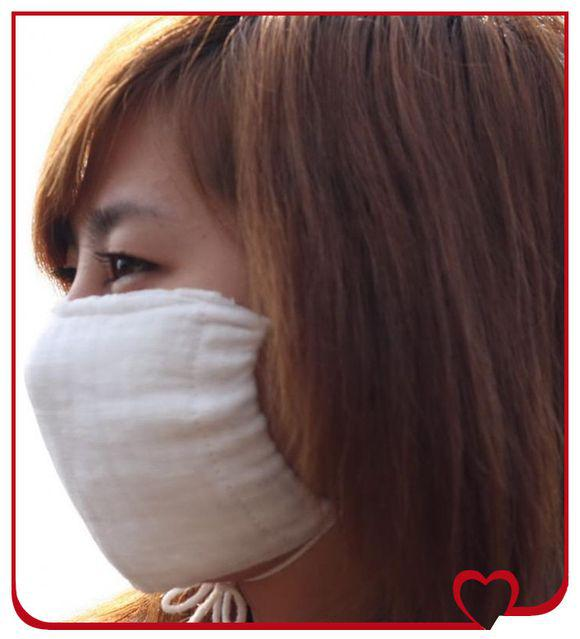OK: (33, 195, 390, 587)
